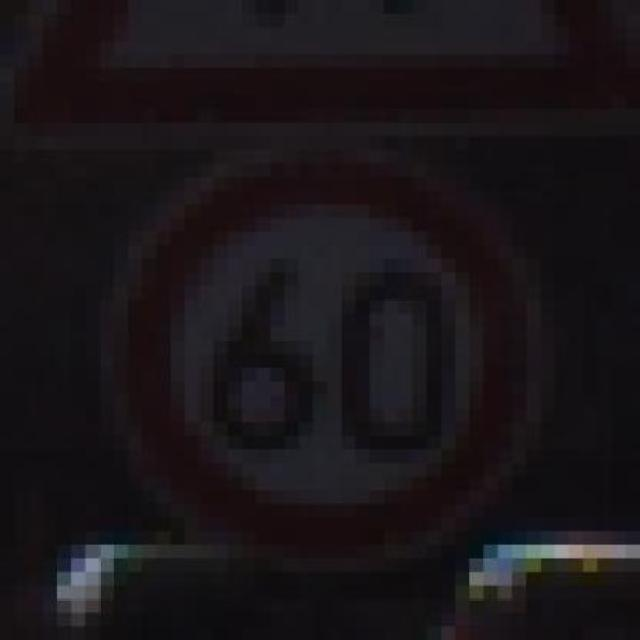forb_speed_over_60: (113, 152, 533, 556)
